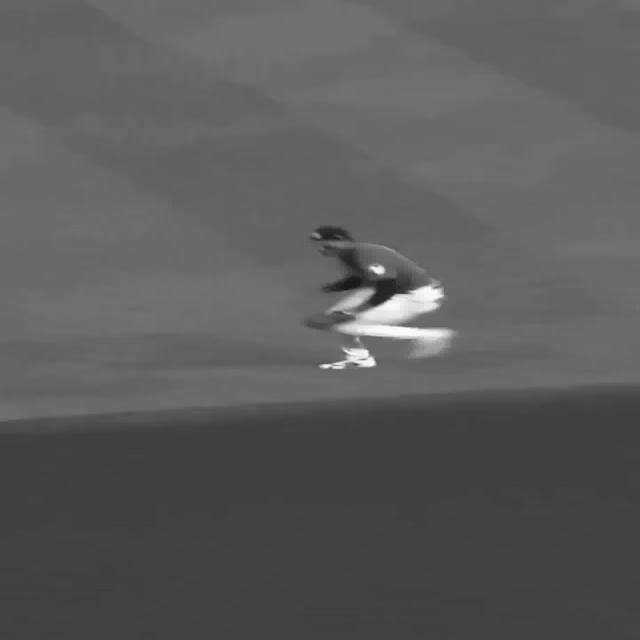baseball_glove: (304, 309, 356, 330)
shoe: (408, 327, 454, 359), (318, 356, 376, 370)
